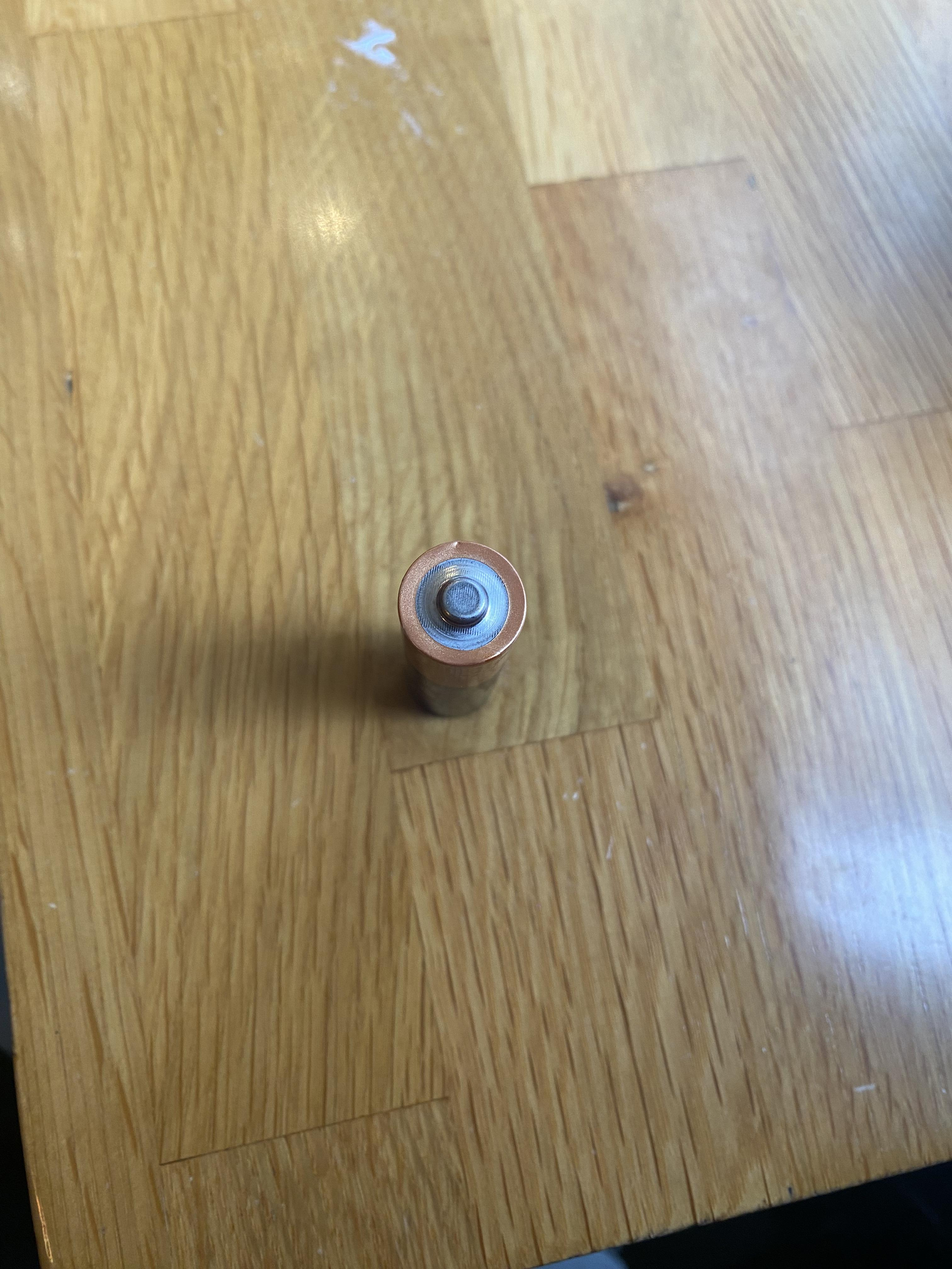AAA: (395, 538, 528, 718)
